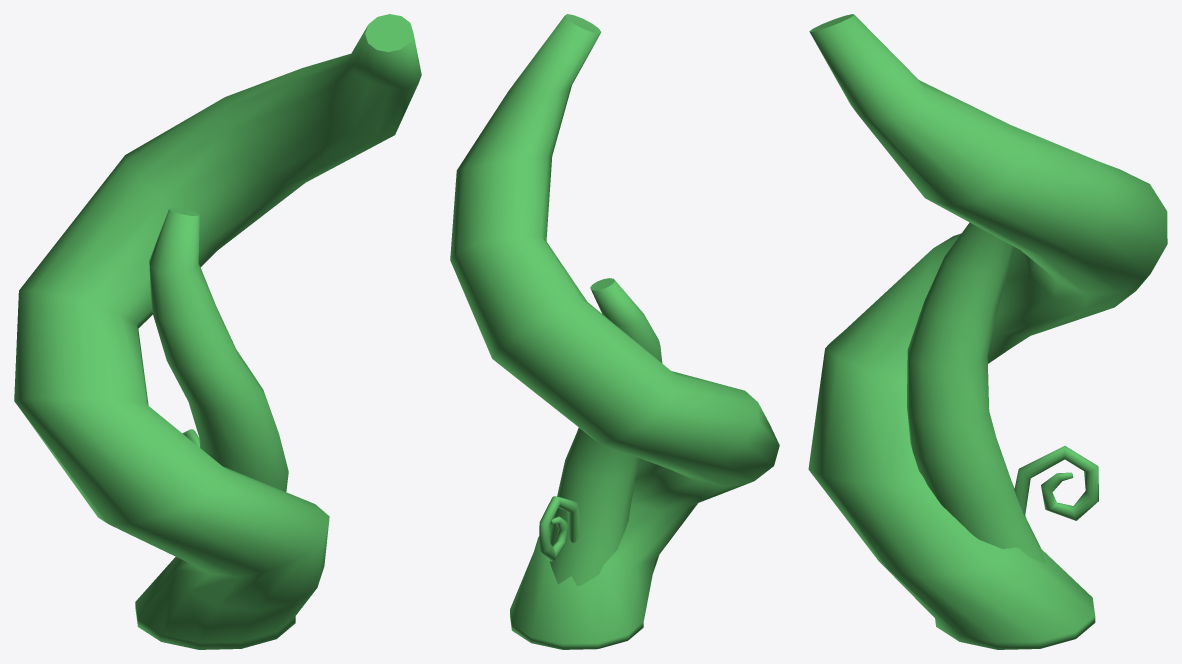
Rendered from Vinestalk.fbx.
3 views of the same model, side by side, from view 1: azimuth 30°, elevation 25°; view 2: azimuth 150°, elevation 25°; view 3: azimuth 270°, elevation 25° (orthographic). The views are drawn at different scales.
Visible parts, largest first — view 1: Vinestalk, Flowering Stage; view 2: Vinestalk, Flowering Stage, Sprout Stage; view 3: Vinestalk, Flowering Stage, Sprout Stage.
Boxes of the visible parts, <box> form: Vinestalk: <box>14,14,421,649</box>; Flowering Stage: <box>149,208,288,491</box>; Vinestalk: <box>450,14,779,649</box>; Flowering Stage: <box>549,278,662,585</box>; Sprout Stage: <box>539,496,580,561</box>; Vinestalk: <box>808,14,1167,649</box>; Flowering Stage: <box>907,222,1046,563</box>; Sprout Stage: <box>1014,446,1098,520</box>.
Size of the model in its own units: 30.12 by 51.39 by 25.98.
